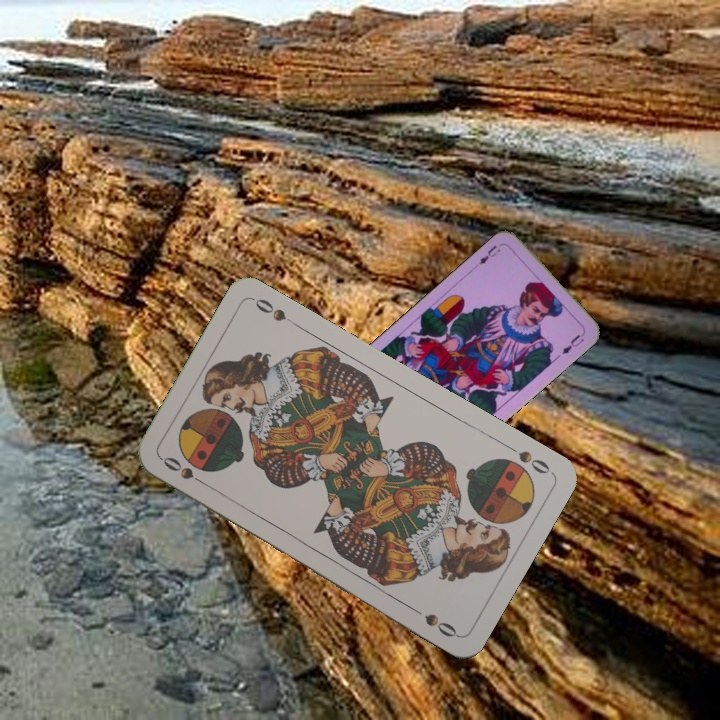EU: (475, 241, 503, 267)
SO: (158, 452, 212, 490), (501, 440, 553, 477)
